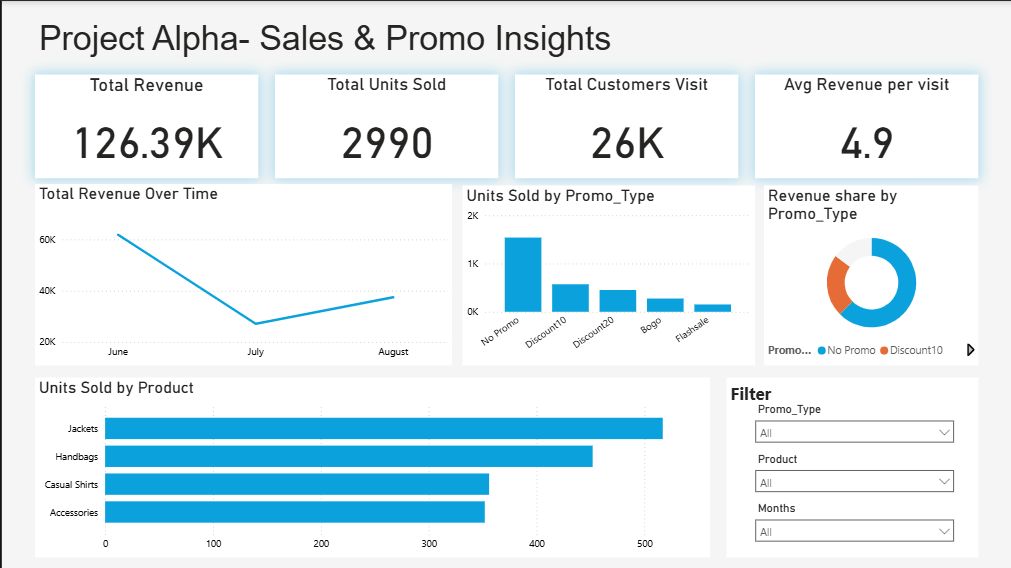

The page's visual inventory and layout, read from the dashboard file:
{"tool":"powerbi","page":{"name":"Page 1","canvas":[1280,720],"ordinal":0},"visuals":[{"type":"shape","box":[912.8,474.3,317.5,226.8],"z":0},{"type":"card","title":"Total Revenue","fields":{"Values":["Table1.Total Revenue"]},"box":[41.6,92.6,281.6,130.4],"z":1000},{"type":"card","title":"Total Units Sold","fields":{"Values":["Table1.Total Units Sold"]},"box":[343.9,92.6,281.6,130.4],"z":2000},{"type":"card","title":"Total Customers Visit","fields":{"Values":["Table1.Total visits"]},"box":[646.3,92.6,281.6,130.4],"z":3000},{"type":"card","title":"Avg Revenue per visit","fields":{"Values":["Table1.Avg Revenue per visit"]},"box":[948.7,92.6,281.6,130.4],"z":4000},{"type":"lineChart","title":"Total Revenue Over Time","fields":{"Y":["Table1.Total Revenue"],"Category":["Table1.Date.Variation.Date Hierarchy.Month"]},"box":[41.6,230.6,525.4,228.7],"z":5000},{"type":"clusteredColumnChart","title":"Units Sold by Promo_Type","fields":{"Category":["Table1.Promo_Type"],"Y":["Table1.Total Units Sold"]},"box":[580.2,232.4,368.5,226.8],"z":6000},{"type":"barChart","title":" Units Sold by Product","fields":{"Category":["Table1.Product"],"Y":["Table1.Total Units Sold"]},"box":[41.6,474.3,850.4,226.8],"z":7000},{"type":"donutChart","title":"Revenue share by Promo_Type","fields":{"Category":["Table1.Promo_Type"],"Y":["Table1.Total Revenue"]},"box":[960,232.4,270.2,226.8],"z":8000},{"type":"slicer","fields":{"Values":["Table1.Promo_Type"]},"box":[939.2,500.8,270.2,62.4],"z":9000},{"type":"slicer","fields":{"Values":["Table1.Product"]},"box":[939.2,563.2,270.2,62.4],"z":10000},{"type":"slicer","fields":{"Values":["Table1.Months"]},"box":[939.2,625.5,270.2,62.4],"z":11000},{"type":"textbox","box":[41.6,17,884.4,60.5],"z":12000},{"type":"textbox","box":[912.8,474.3,120.9,41.6],"z":13000}]}

Visuals, with their boxes in screenshot pixels (x1, y1, x2, y2), scaled from the page's 1280x720 canvas onto the 1011x568 screenshot:
shape: x1=721 y1=374 x2=972 y2=553
"Total Revenue" card: x1=33 y1=73 x2=255 y2=176
"Total Units Sold" card: x1=272 y1=73 x2=494 y2=176
"Total Customers Visit" card: x1=510 y1=73 x2=733 y2=176
"Avg Revenue per visit" card: x1=749 y1=73 x2=972 y2=176
"Total Revenue Over Time" lineChart: x1=33 y1=182 x2=448 y2=362
"Units Sold by Promo_Type" clusteredColumnChart: x1=458 y1=183 x2=749 y2=362
" Units Sold by Product" barChart: x1=33 y1=374 x2=705 y2=553
"Revenue share by Promo_Type" donutChart: x1=758 y1=183 x2=972 y2=362
slicer - Table1.Promo_Type: x1=742 y1=395 x2=955 y2=444
slicer - Table1.Product: x1=742 y1=444 x2=955 y2=494
slicer - Table1.Months: x1=742 y1=493 x2=955 y2=543
textbox: x1=33 y1=13 x2=731 y2=61
textbox: x1=721 y1=374 x2=816 y2=407
